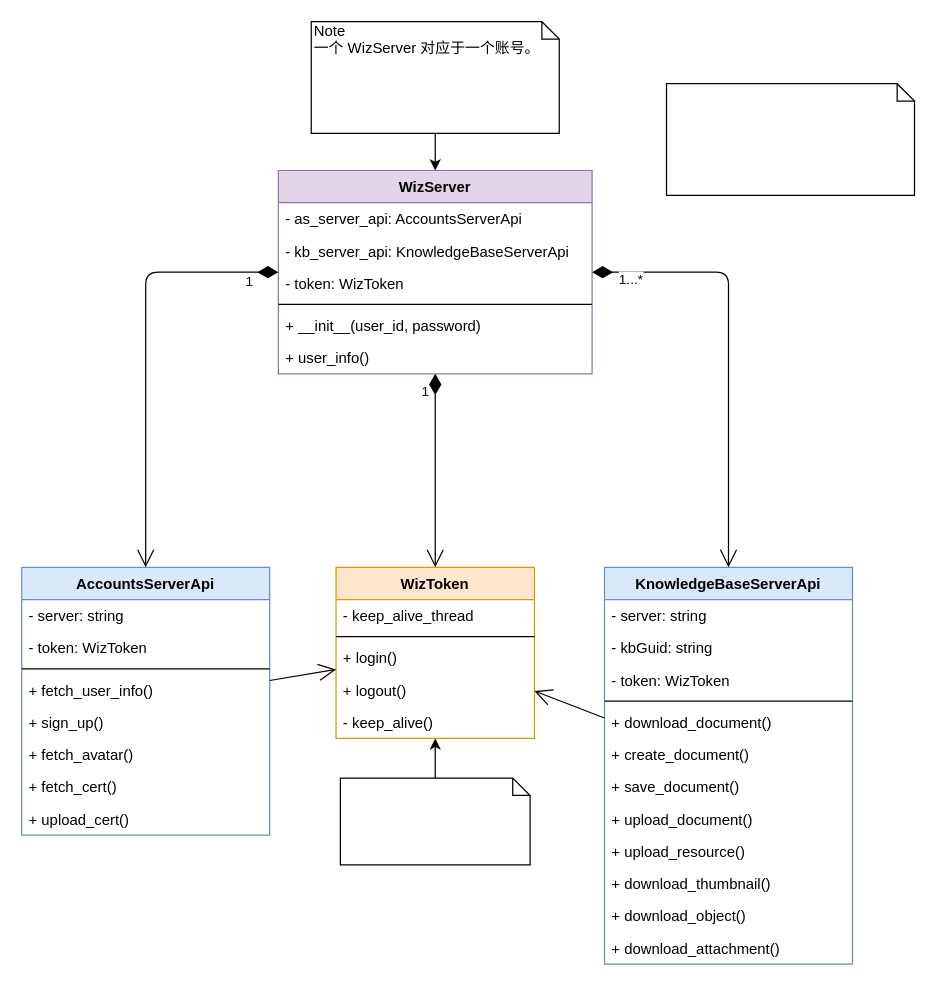
Image size: 936x990. Some labels were removed from this diagram. The centre of each missing label's shape, as x and y in pixels:
"Note 没有必要刻意检查服务器地址或者 token 是否有效，因为如果它们无效的话，Exception 就会在调用接口的过程中产生。" belongs at (x=789, y=138).
"Note 需要开启一个线程来维持 token 的有效性。" belongs at (x=434, y=821).
